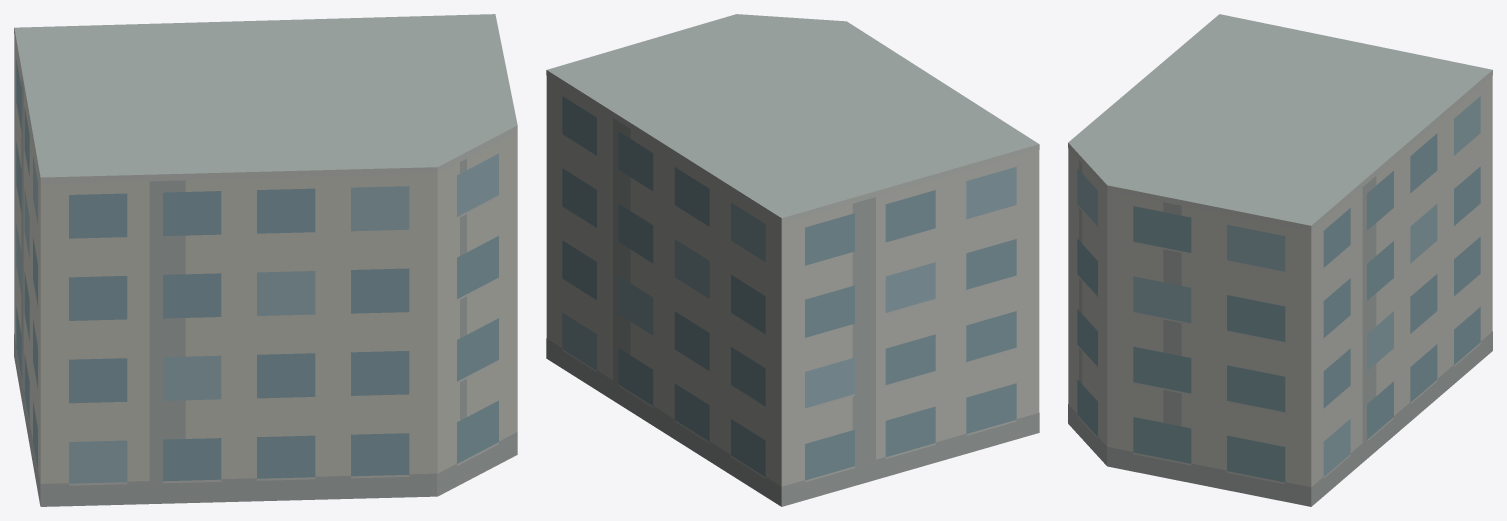
Rendered from residential-18623150-a8f9-437f-a09a-aa3c717c8f6e.glb.
The picture shows the model from 3 angles, left to right: view 1: azimuth 30°, elevation 25°; view 2: azimuth 150°, elevation 25°; view 3: azimuth 270°, elevation 25°; orthographic projection. The views are drawn at different scales.
Parts seen in each view (by area): view 1: residential-18623150-a8f9-437f-a09a-aa3c717c8f6e.tmp; view 2: residential-18623150-a8f9-437f-a09a-aa3c717c8f6e.tmp; view 3: residential-18623150-a8f9-437f-a09a-aa3c717c8f6e.tmp.
Boxes of the visible parts, bbox=[...] form: residential-18623150-a8f9-437f-a09a-aa3c717c8f6e.tmp: bbox=[14, 14, 517, 506]; residential-18623150-a8f9-437f-a09a-aa3c717c8f6e.tmp: bbox=[546, 14, 1039, 506]; residential-18623150-a8f9-437f-a09a-aa3c717c8f6e.tmp: bbox=[1068, 14, 1492, 506].
Bounding box in the file's own units: 19.4 × 12 × 16.44.
